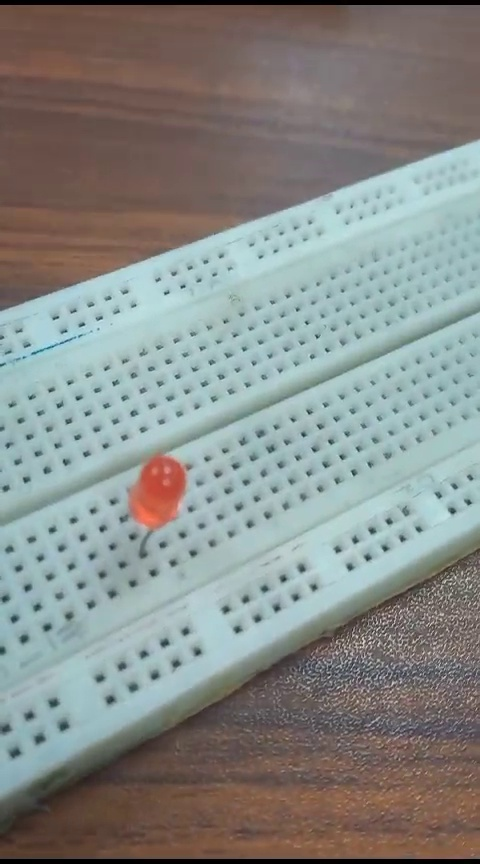LED: (124, 456, 187, 569)
